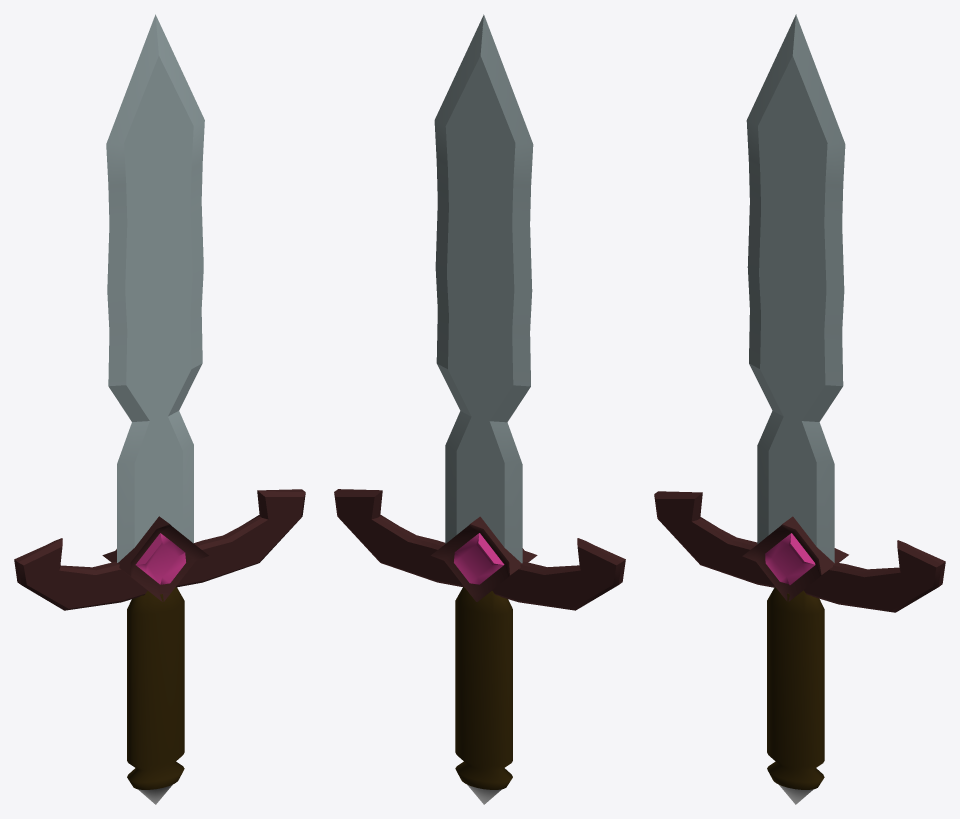
File: firesword.dae
The picture shows the model from 3 angles, left to right: view 1: azimuth 30°, elevation 25°; view 2: azimuth 150°, elevation 25°; view 3: azimuth 330°, elevation 25°; orthographic projection.
Visible parts, largest first — view 1: polySurface5, polySurface4, pCylinder1, polySurface1, polySurface6, pCube1, pCube2; view 2: polySurface2, polySurface3, pCylinder1, polySurface1, polySurface6, pCube1, pCube2; view 3: polySurface4, polySurface5, pCylinder1, polySurface6, polySurface1, pCube1, pCube2.
Part boxes in pixels (box(x1,y1,x2,y2)): polySurface5: box(106, 15, 158, 562); polySurface4: box(155, 14, 204, 543); pCylinder1: box(127, 587, 184, 789); polySurface1: box(14, 538, 147, 610); polySurface6: box(176, 489, 305, 587); pCube1: box(102, 516, 208, 601); pCube2: box(135, 533, 185, 584); polySurface2: box(480, 14, 533, 563); polySurface3: box(434, 15, 483, 543); pCylinder1: box(455, 587, 512, 789); polySurface1: box(492, 538, 625, 610); polySurface6: box(334, 489, 463, 586); pCube1: box(431, 516, 537, 601); pCube2: box(454, 533, 504, 584); polySurface4: box(792, 15, 845, 562); polySurface5: box(746, 15, 795, 544); pCylinder1: box(767, 587, 824, 789); polySurface6: box(803, 540, 945, 612); polySurface1: box(654, 491, 775, 587); pCube1: box(742, 516, 848, 601); pCube2: box(765, 533, 815, 584).
Bounding box in the file's own units: 7.41 × 19.47 × 1.24.
